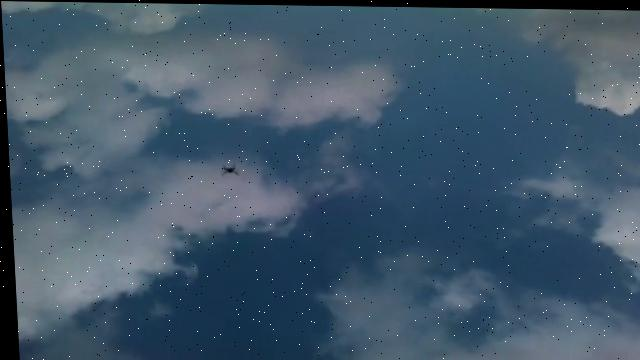drone: (215, 162, 238, 179)
